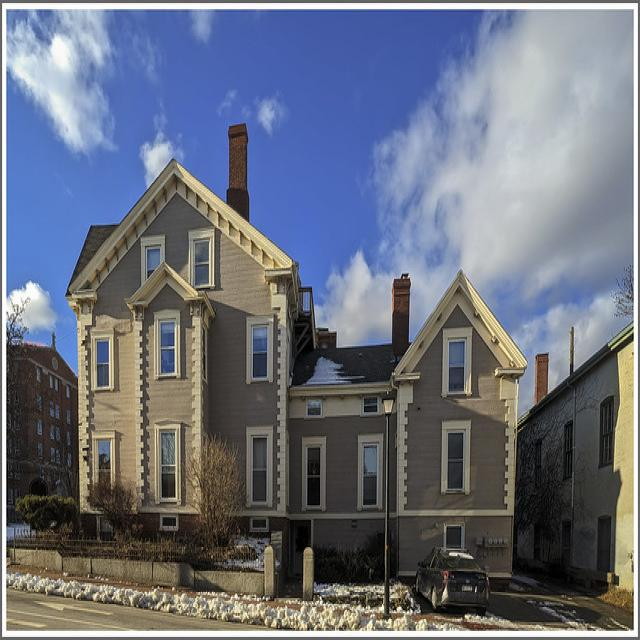building: (63, 119, 291, 594), (292, 264, 524, 592)
